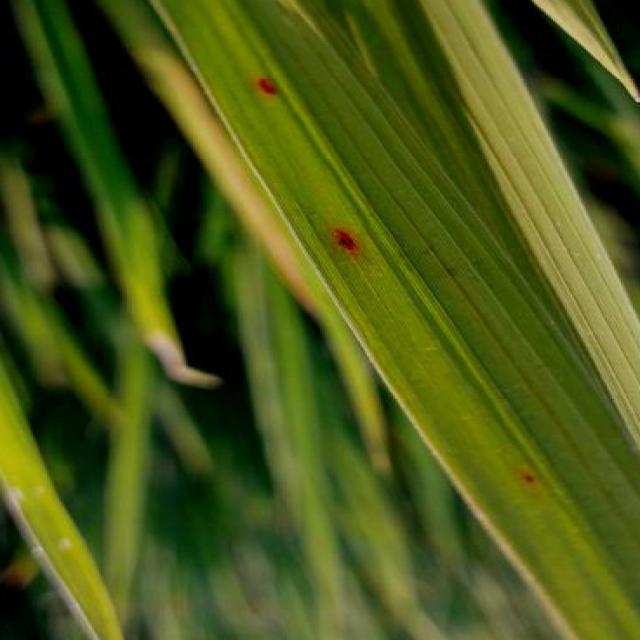Brown_Spot: (322, 222, 370, 274), (500, 462, 544, 504), (247, 74, 294, 106)
